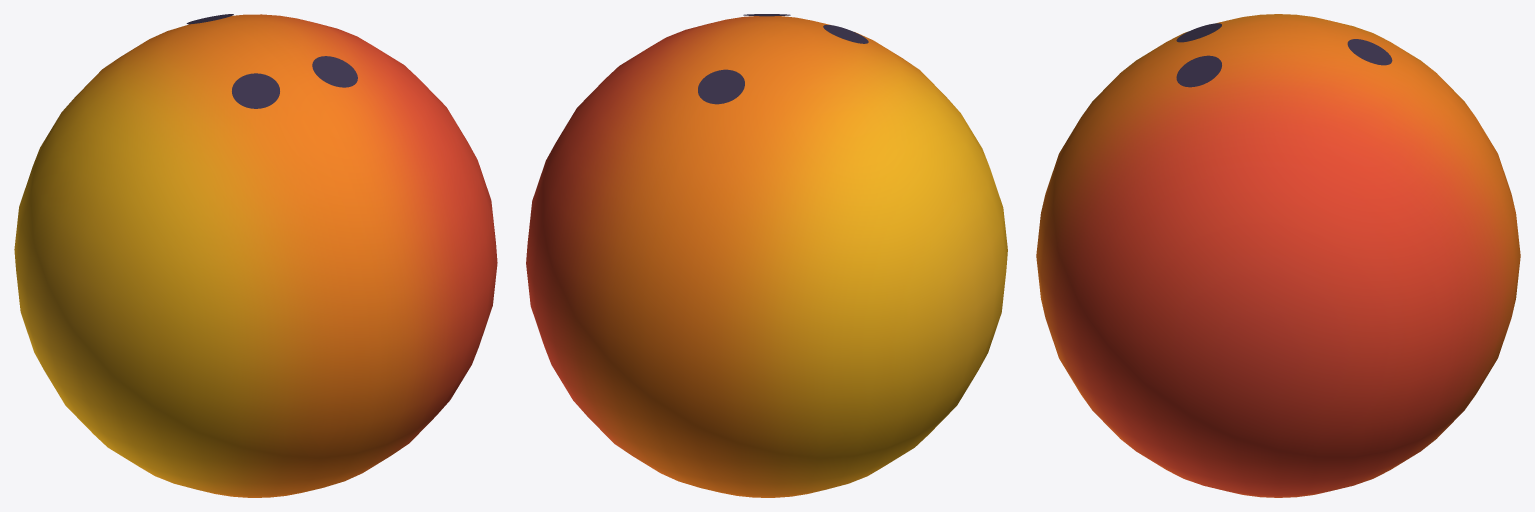
The model's file is ball_default.gltf.
3 views of the same model, side by side, from view 1: azimuth 30°, elevation 25°; view 2: azimuth 150°, elevation 25°; view 3: azimuth 270°, elevation 25° (orthographic).
Parts seen in each view (by area): view 1: bowlingBall; view 2: bowlingBall; view 3: bowlingBall.
Boxes of the visible parts, bbox=[...] form: bowlingBall: bbox=[14, 14, 497, 497]; bowlingBall: bbox=[526, 14, 1007, 497]; bowlingBall: bbox=[1036, 14, 1520, 497].
Bounding box in the file's own units: 0.25 × 0.25 × 0.25.
Materials: 1 (1 with a texture image).
